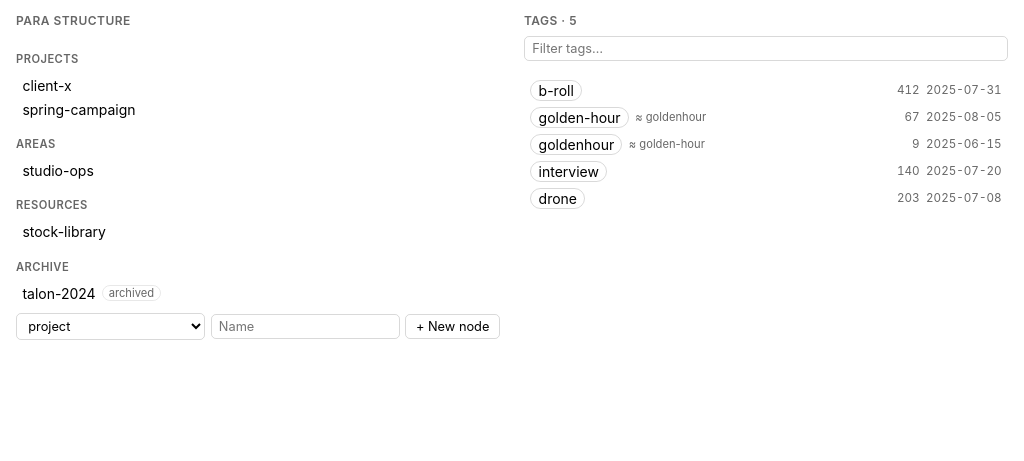
Test case: an archived node is chipped as one and offers no archive action
The width and height of the screenshot is (1024, 461).
Click the button "talon-2024 archived" at [59, 293], box [16,282,500,305]
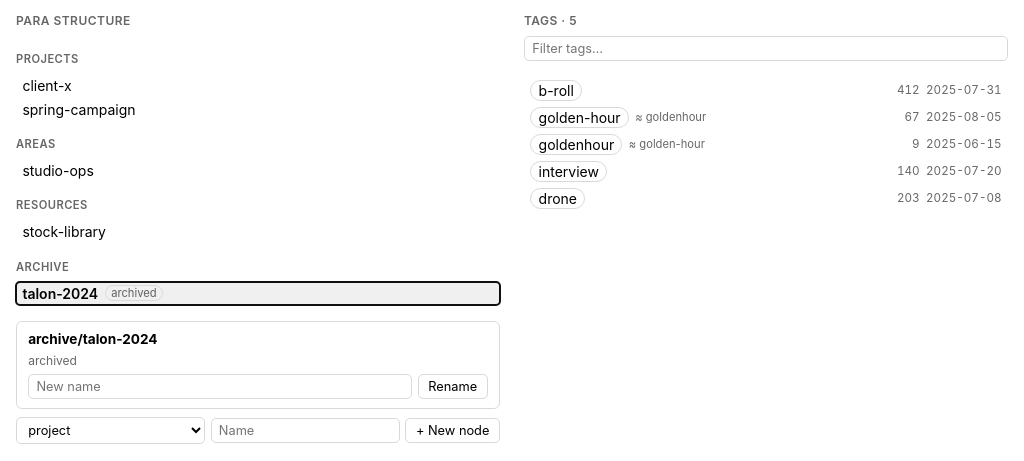
expect the element named "Selected node" shows "archived": met, box [28,353,77,368]
expect the button "Rename" is shown: met, box [418,374,488,399]
